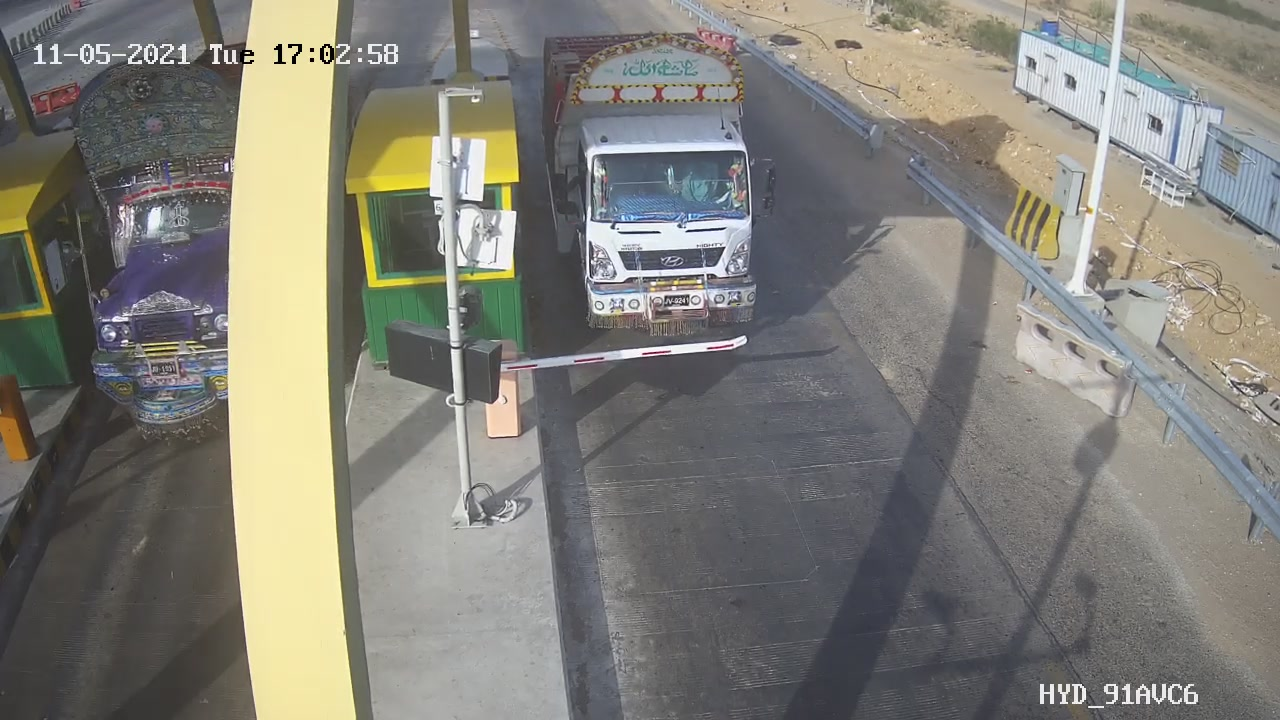F5: (527, 14, 791, 368)
